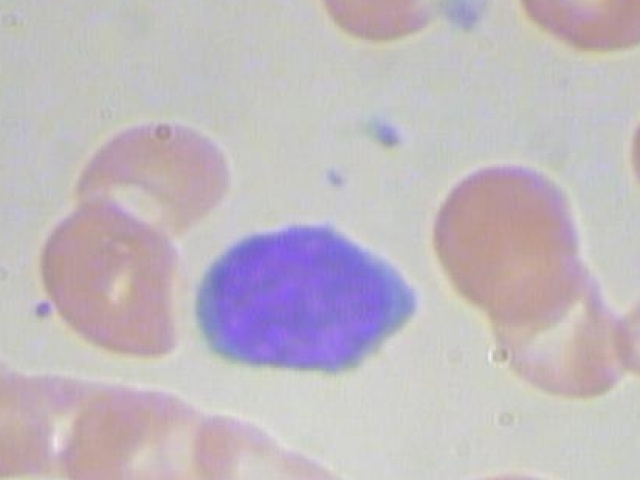Platelets: (360, 112, 411, 153), (435, 0, 489, 30)
RBC: (17, 194, 191, 363), (474, 236, 640, 405), (62, 103, 236, 245), (429, 161, 577, 299), (51, 369, 200, 480), (188, 402, 372, 480), (290, 0, 473, 51), (0, 358, 69, 480), (510, 0, 640, 64), (434, 459, 619, 480), (626, 72, 640, 231)
WBC: (186, 215, 436, 381)
